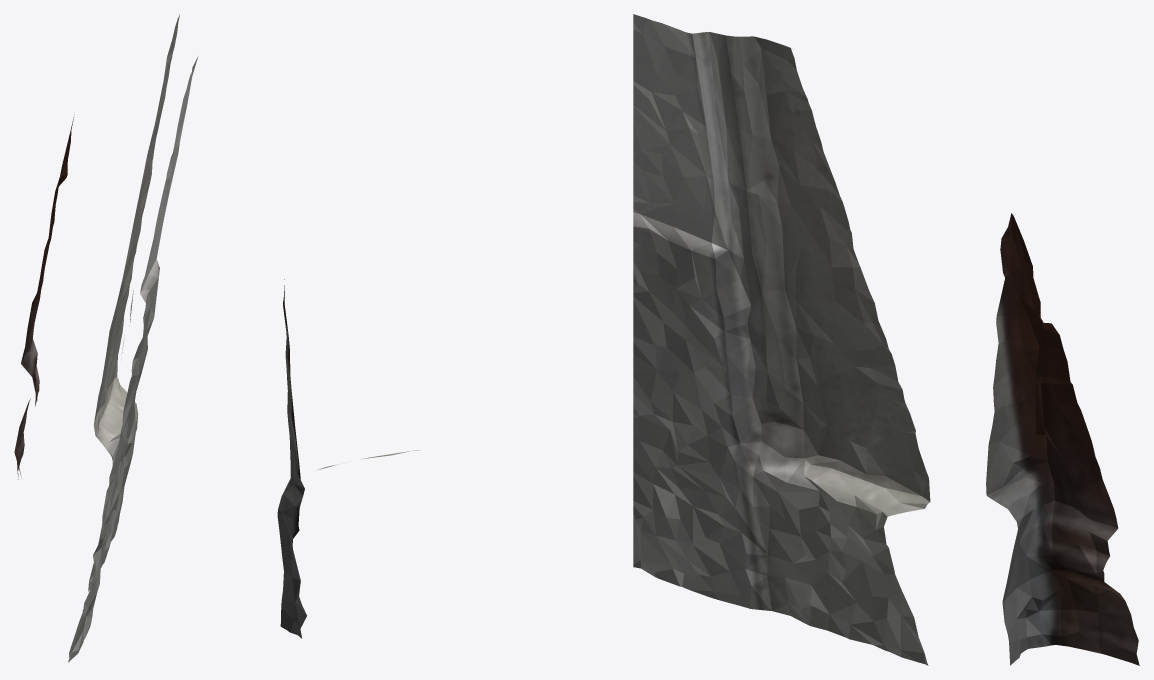
The picture shows the model from 3 angles, left to right: view 1: azimuth 30°, elevation 25°; view 2: azimuth 150°, elevation 25°; view 3: azimuth 270°, elevation 25°; orthographic projection. The views are drawn at different scales.
Size of the model in its own units: 0.2872 by 0.8374 by 0.6219.
2 materials, 2 textured.
